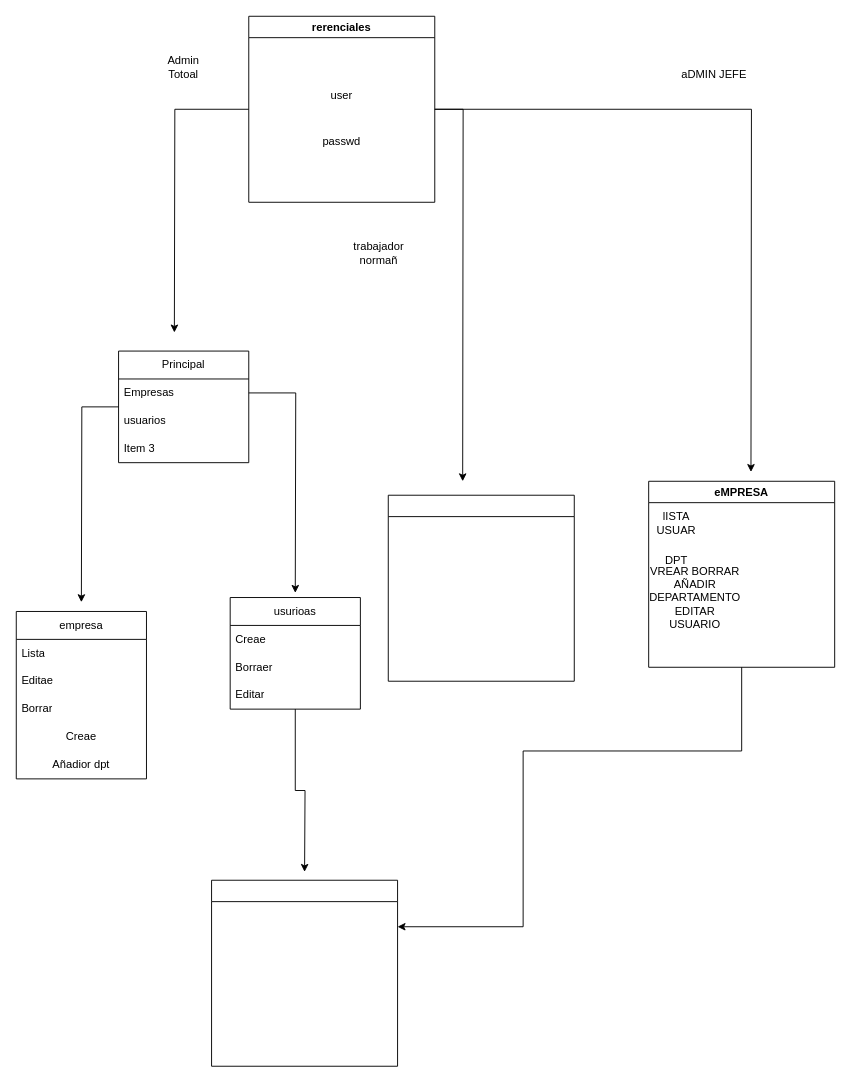
Image size: 851x1083. Some labels were removed from this diagram. Each missing label, with the centre of its shape:
"Formulario" belongs at (304,972).
"ListA SUSARIOS" belongs at (480,587).
